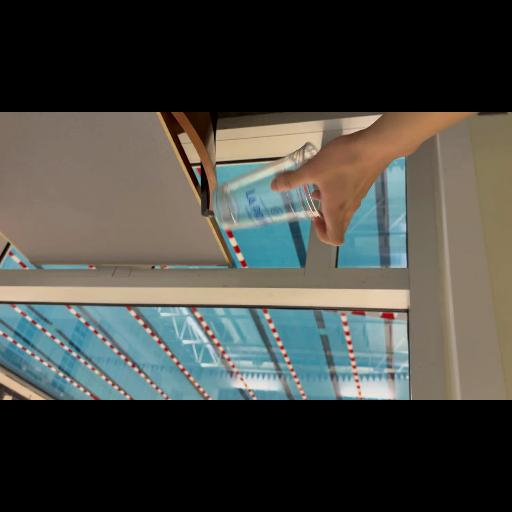lp_plastic_cup: (215, 139, 327, 235)
